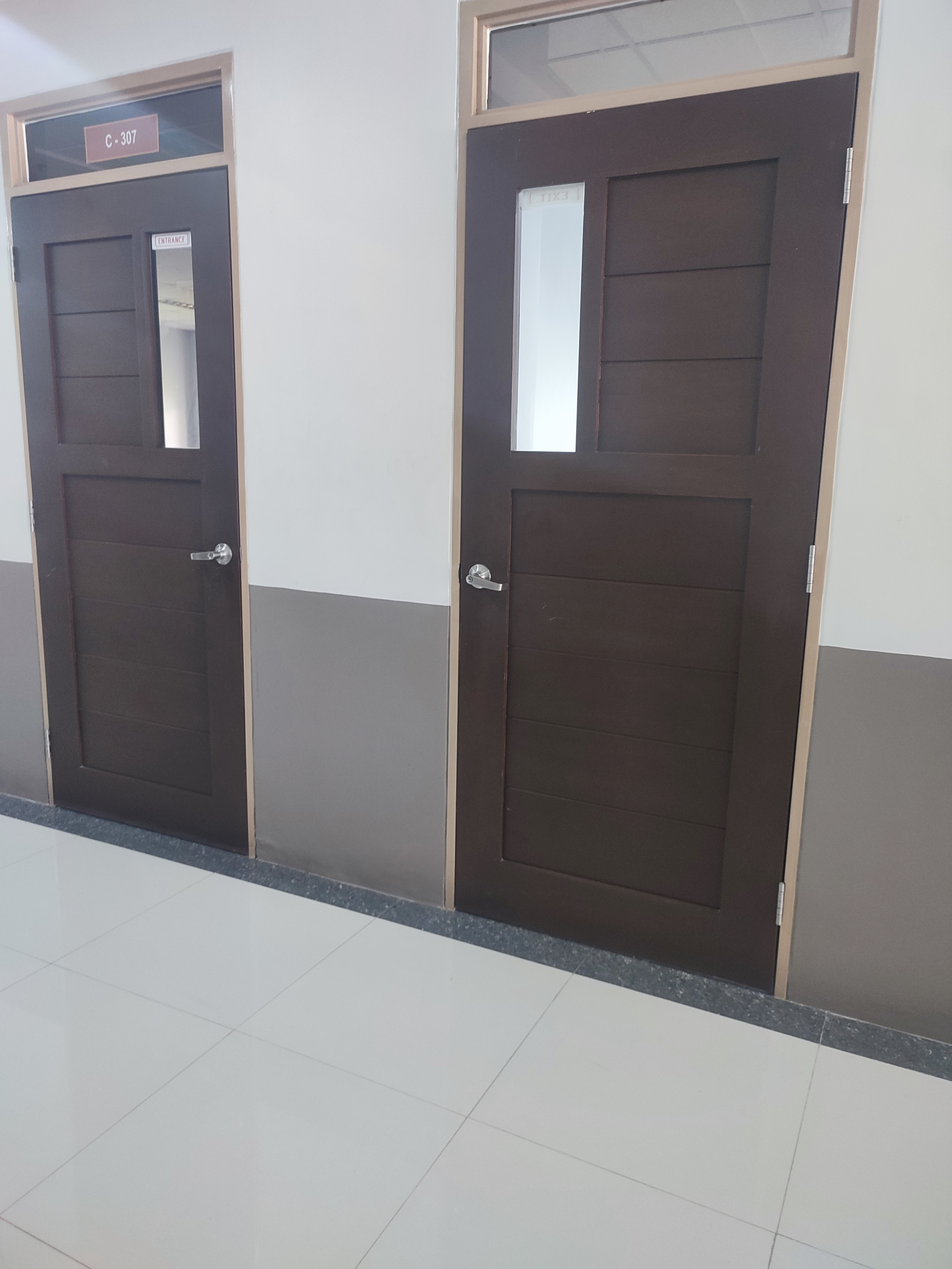door: (447, 0, 872, 998), (0, 54, 249, 859)
